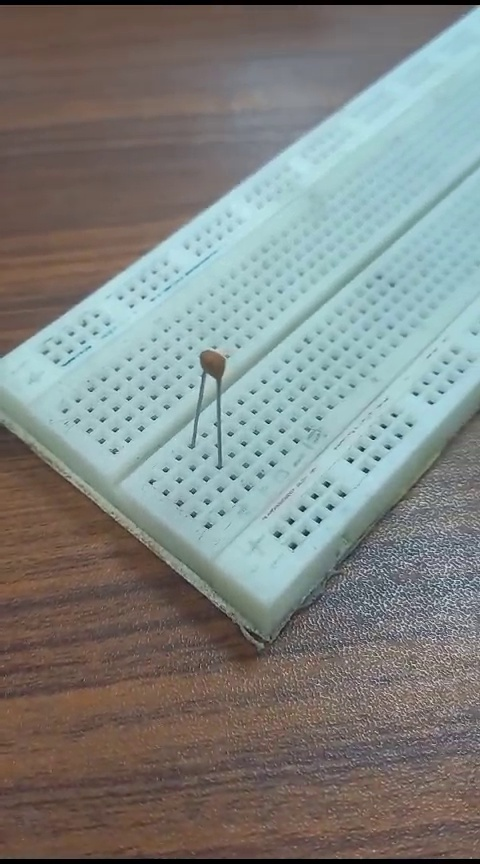ceramic capacitor: (176, 345, 239, 460)
